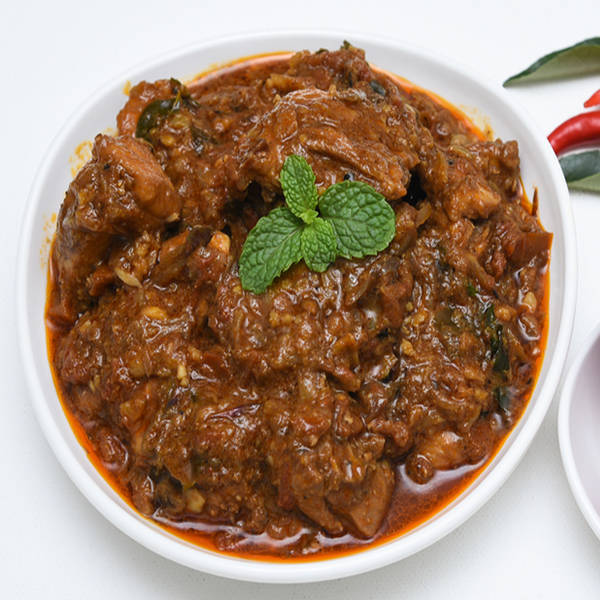chicken_curry: (96, 88, 494, 523)
